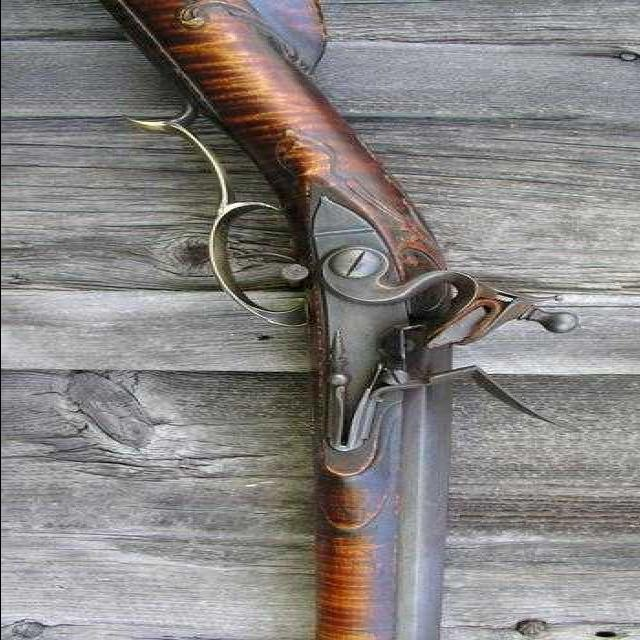heavyweapon: (80, 1, 574, 639)
